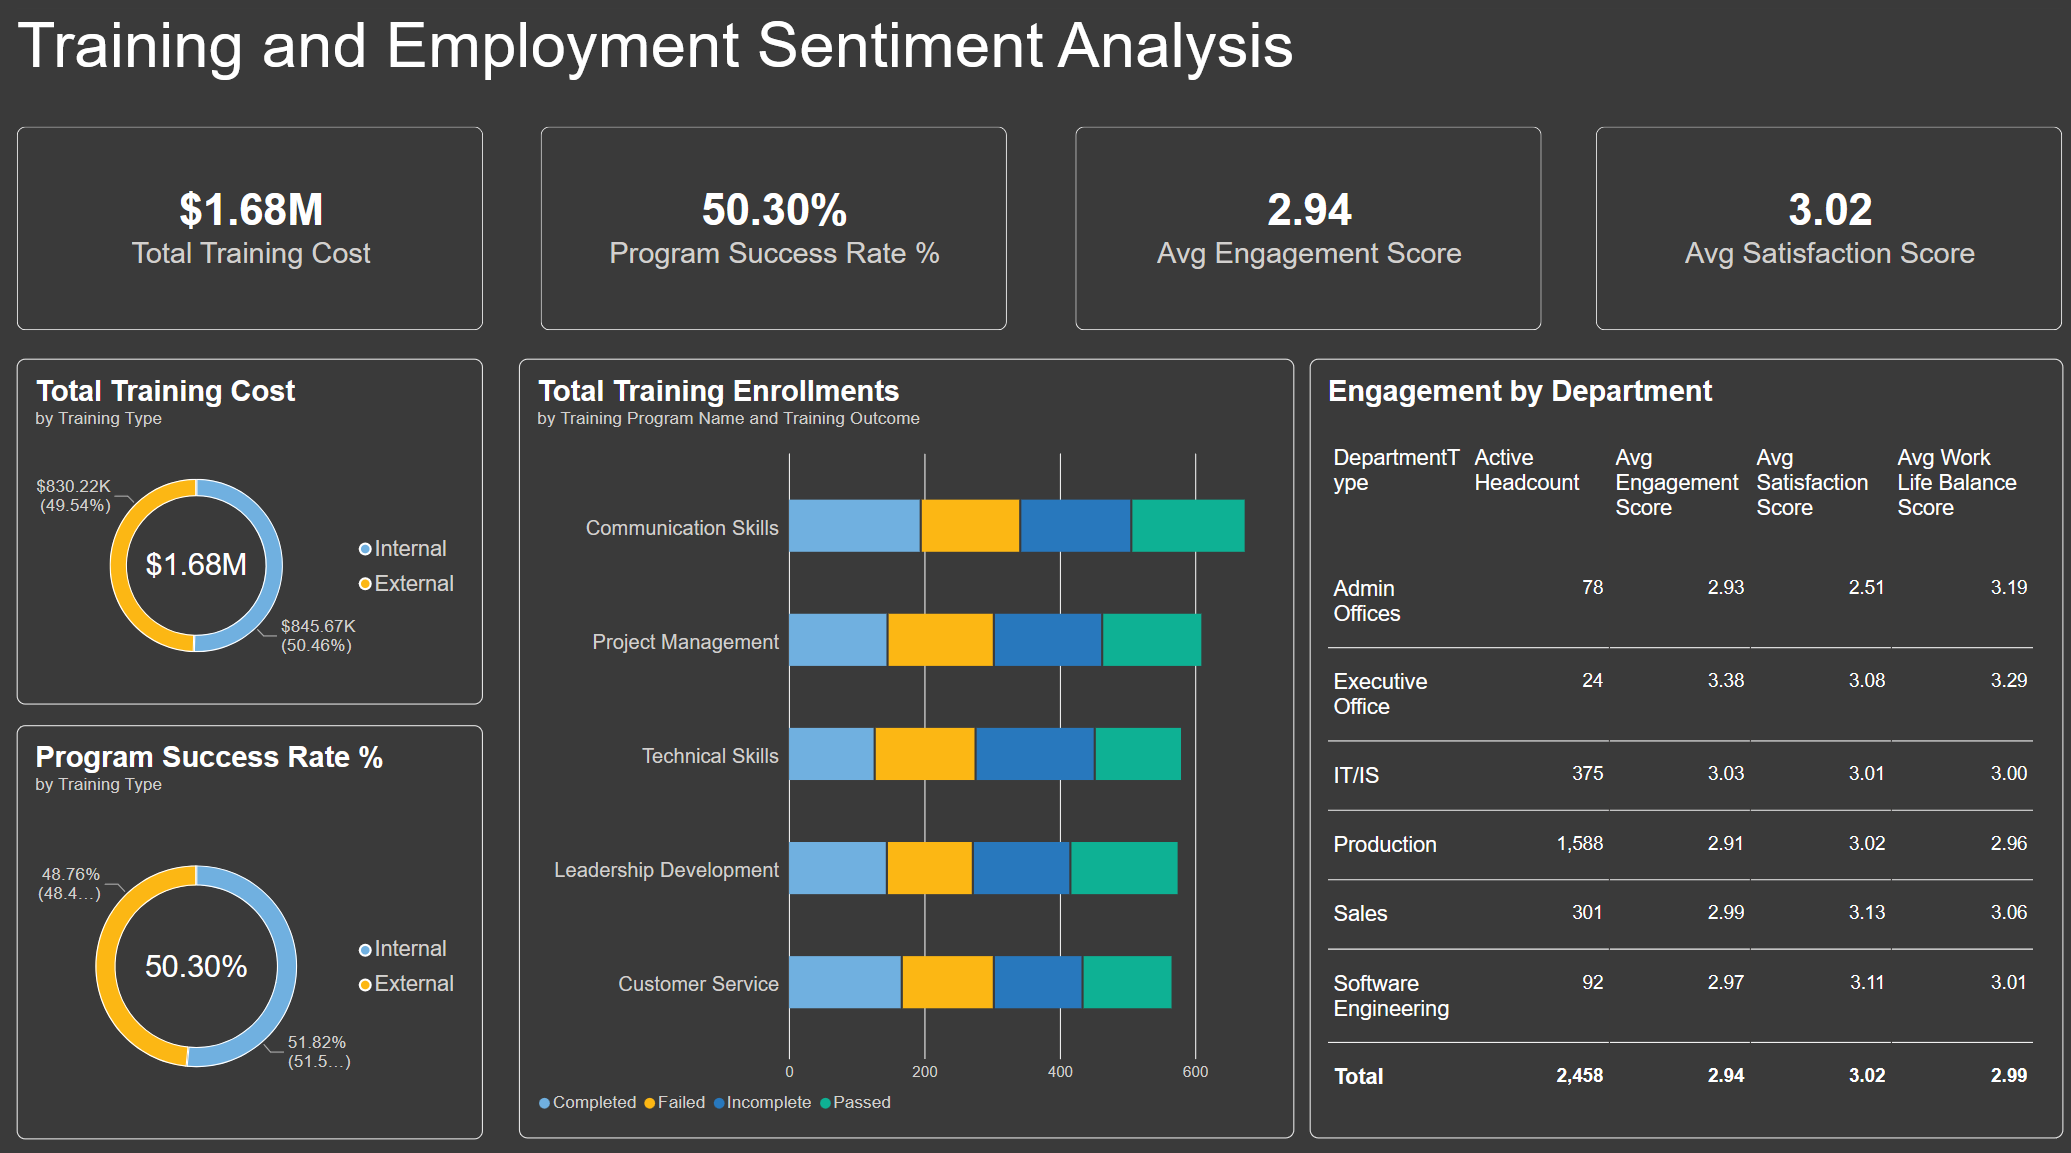

The dashboard page shown, as its layout file describes it:
{"tool":"powerbi","page":{"name":"Training and Employment Sentiment Analysis","canvas":[1920,1080],"ordinal":4},"visuals":[{"type":"cardVisual","fields":{"Data":["Measures_.Total Training Cost"]},"box":[20.2,123.2,430.2,187.8],"z":0},{"type":"cardVisual","fields":{"Data":["Measures_.Program Success Rate %"]},"box":[502.9,123.2,430,188],"z":1000},{"type":"cardVisual","fields":{"Data":["Measures_.Avg Engagement Score"]},"box":[995.7,123.2,430,188],"z":2000},{"type":"cardVisual","fields":{"Data":["Measures_.Avg Satisfaction Score"]},"box":[1476.4,123.2,430,188],"z":3000},{"type":"barChart","fields":{"Category":["dim_training.Training Program Name"],"Series":["dim_training.Training Outcome"],"Y":["Measures_.Total Training Enrollments"]},"box":[482.7,337.3,715,719],"z":4000},{"type":"donutChart","fields":{"Category":["dim_training.Training Type"],"Y":["Measures_.Total Training Cost"]},"box":[20.2,337.3,430.2,319.1],"z":5000},{"type":"donutChart","fields":{"Category":["dim_training.Training Type"],"Y":["Measures_.Program Success Rate %"]},"box":[20.2,674.6,430,382],"z":6000},{"type":"pivotTable","title":"Engagement by Department","fields":{"Rows":["dim_employee.DepartmentType"],"Values":["Measures_.Active Headcount","Measures_.Avg Engagement Score","Measures_.Avg Satisfaction Score","Measures_.Avg Work Life Balance Score"]},"box":[1211.8,337.3,694.8,719],"z":7000},{"type":"textbox","box":[20.2,14.1,1886.4,92.9],"z":8000}]}

Visuals, with their boxes in screenshot pixels (x1, y1, x2, y2), scaled from the page's 1920x1080 canvas onto the 2071x1153 screenshot:
cardVisual - Measures_.Total Training Cost: crop(22, 132, 486, 332)
cardVisual - Measures_.Program Success Rate %: crop(542, 132, 1006, 332)
cardVisual - Measures_.Avg Engagement Score: crop(1074, 132, 1538, 332)
cardVisual - Measures_.Avg Satisfaction Score: crop(1593, 132, 2056, 332)
barChart - dim_training.Training Program Name x dim_training.Training Outcome: crop(521, 360, 1292, 1128)
donutChart - dim_training.Training Type x Measures_.Total Training Cost: crop(22, 360, 486, 701)
donutChart - dim_training.Training Type x Measures_.Program Success Rate %: crop(22, 720, 486, 1128)
"Engagement by Department" pivotTable: crop(1307, 360, 2057, 1128)
textbox: crop(22, 15, 2057, 114)
